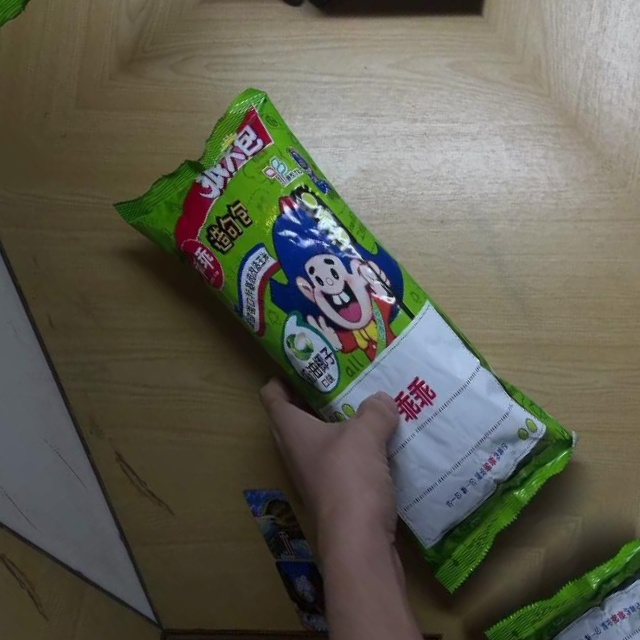Good-Luck: (113, 71, 605, 601)
